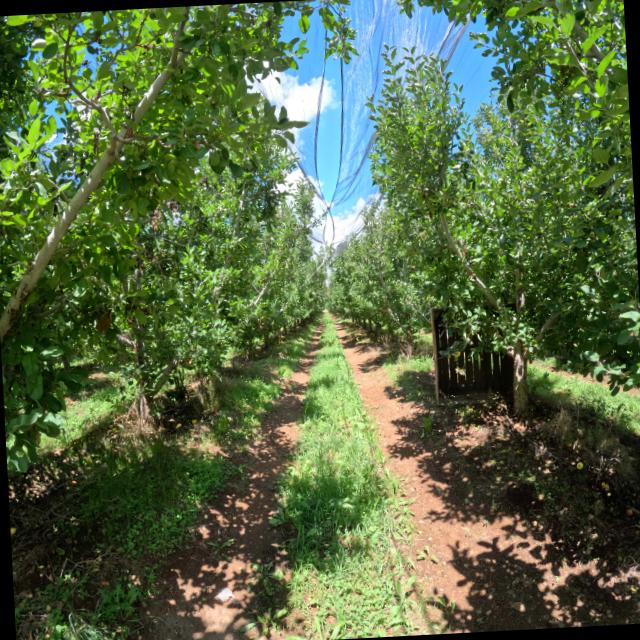-FireBlight-: (95, 310, 113, 334), (151, 208, 164, 231), (166, 199, 180, 213)
